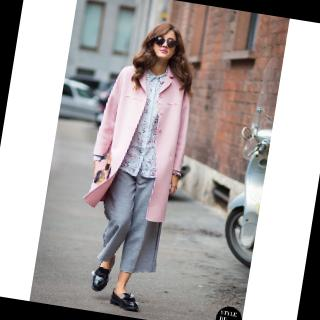loafers: (84, 250, 120, 295), (106, 286, 148, 316)
